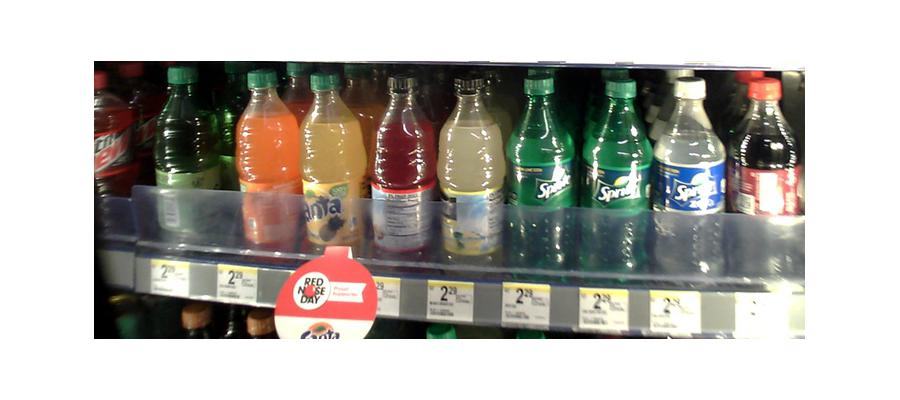bottle: (580, 70, 651, 279), (729, 76, 800, 283), (656, 73, 724, 285), (234, 64, 300, 259), (509, 72, 573, 273), (151, 70, 222, 247), (439, 75, 502, 274), (371, 69, 432, 266), (300, 70, 364, 251)
